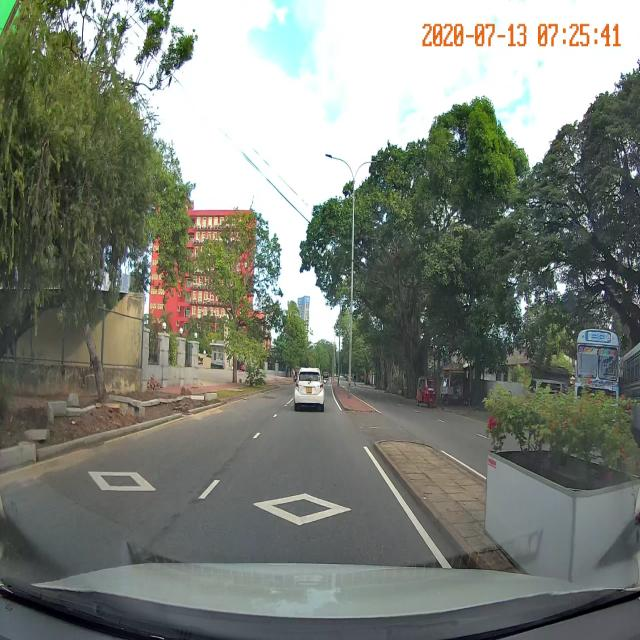Romb: (249, 490, 356, 528), (85, 469, 162, 494)
